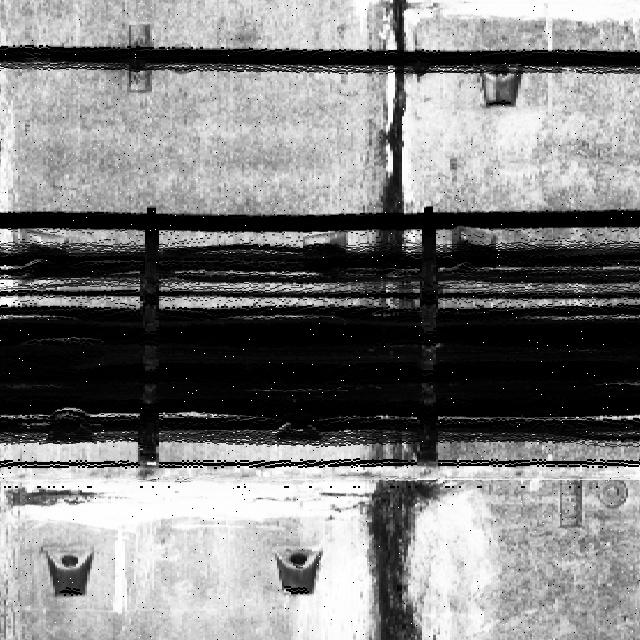leakage: (355, 442, 451, 640), (374, 2, 417, 261)
